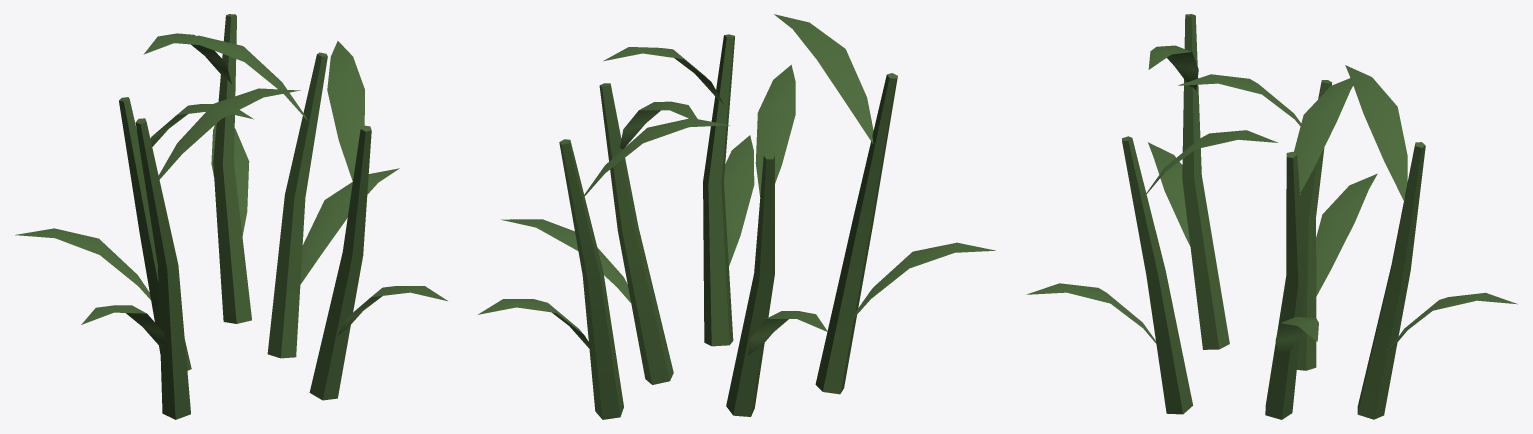
Rendered from crop_flax_sprout.glb.
3 renders of one model, left to right at view 1: azimuth 30°, elevation 25°; view 2: azimuth 150°, elevation 25°; view 3: azimuth 270°, elevation 25°, orthographic. The views are drawn at different scales.
Parts seen in each view (by area): view 1: flax_leaf_0_0; view 2: flax_leaf_0_0; view 3: flax_leaf_0_0.
Boxes of the visible parts, <box> form: flax_leaf_0_0: <box>15,14,447,419</box>; flax_leaf_0_0: <box>477,14,995,419</box>; flax_leaf_0_0: <box>1027,14,1517,419</box>.
Size of the model in its own units: 0.2777 by 0.2159 by 0.2967.
